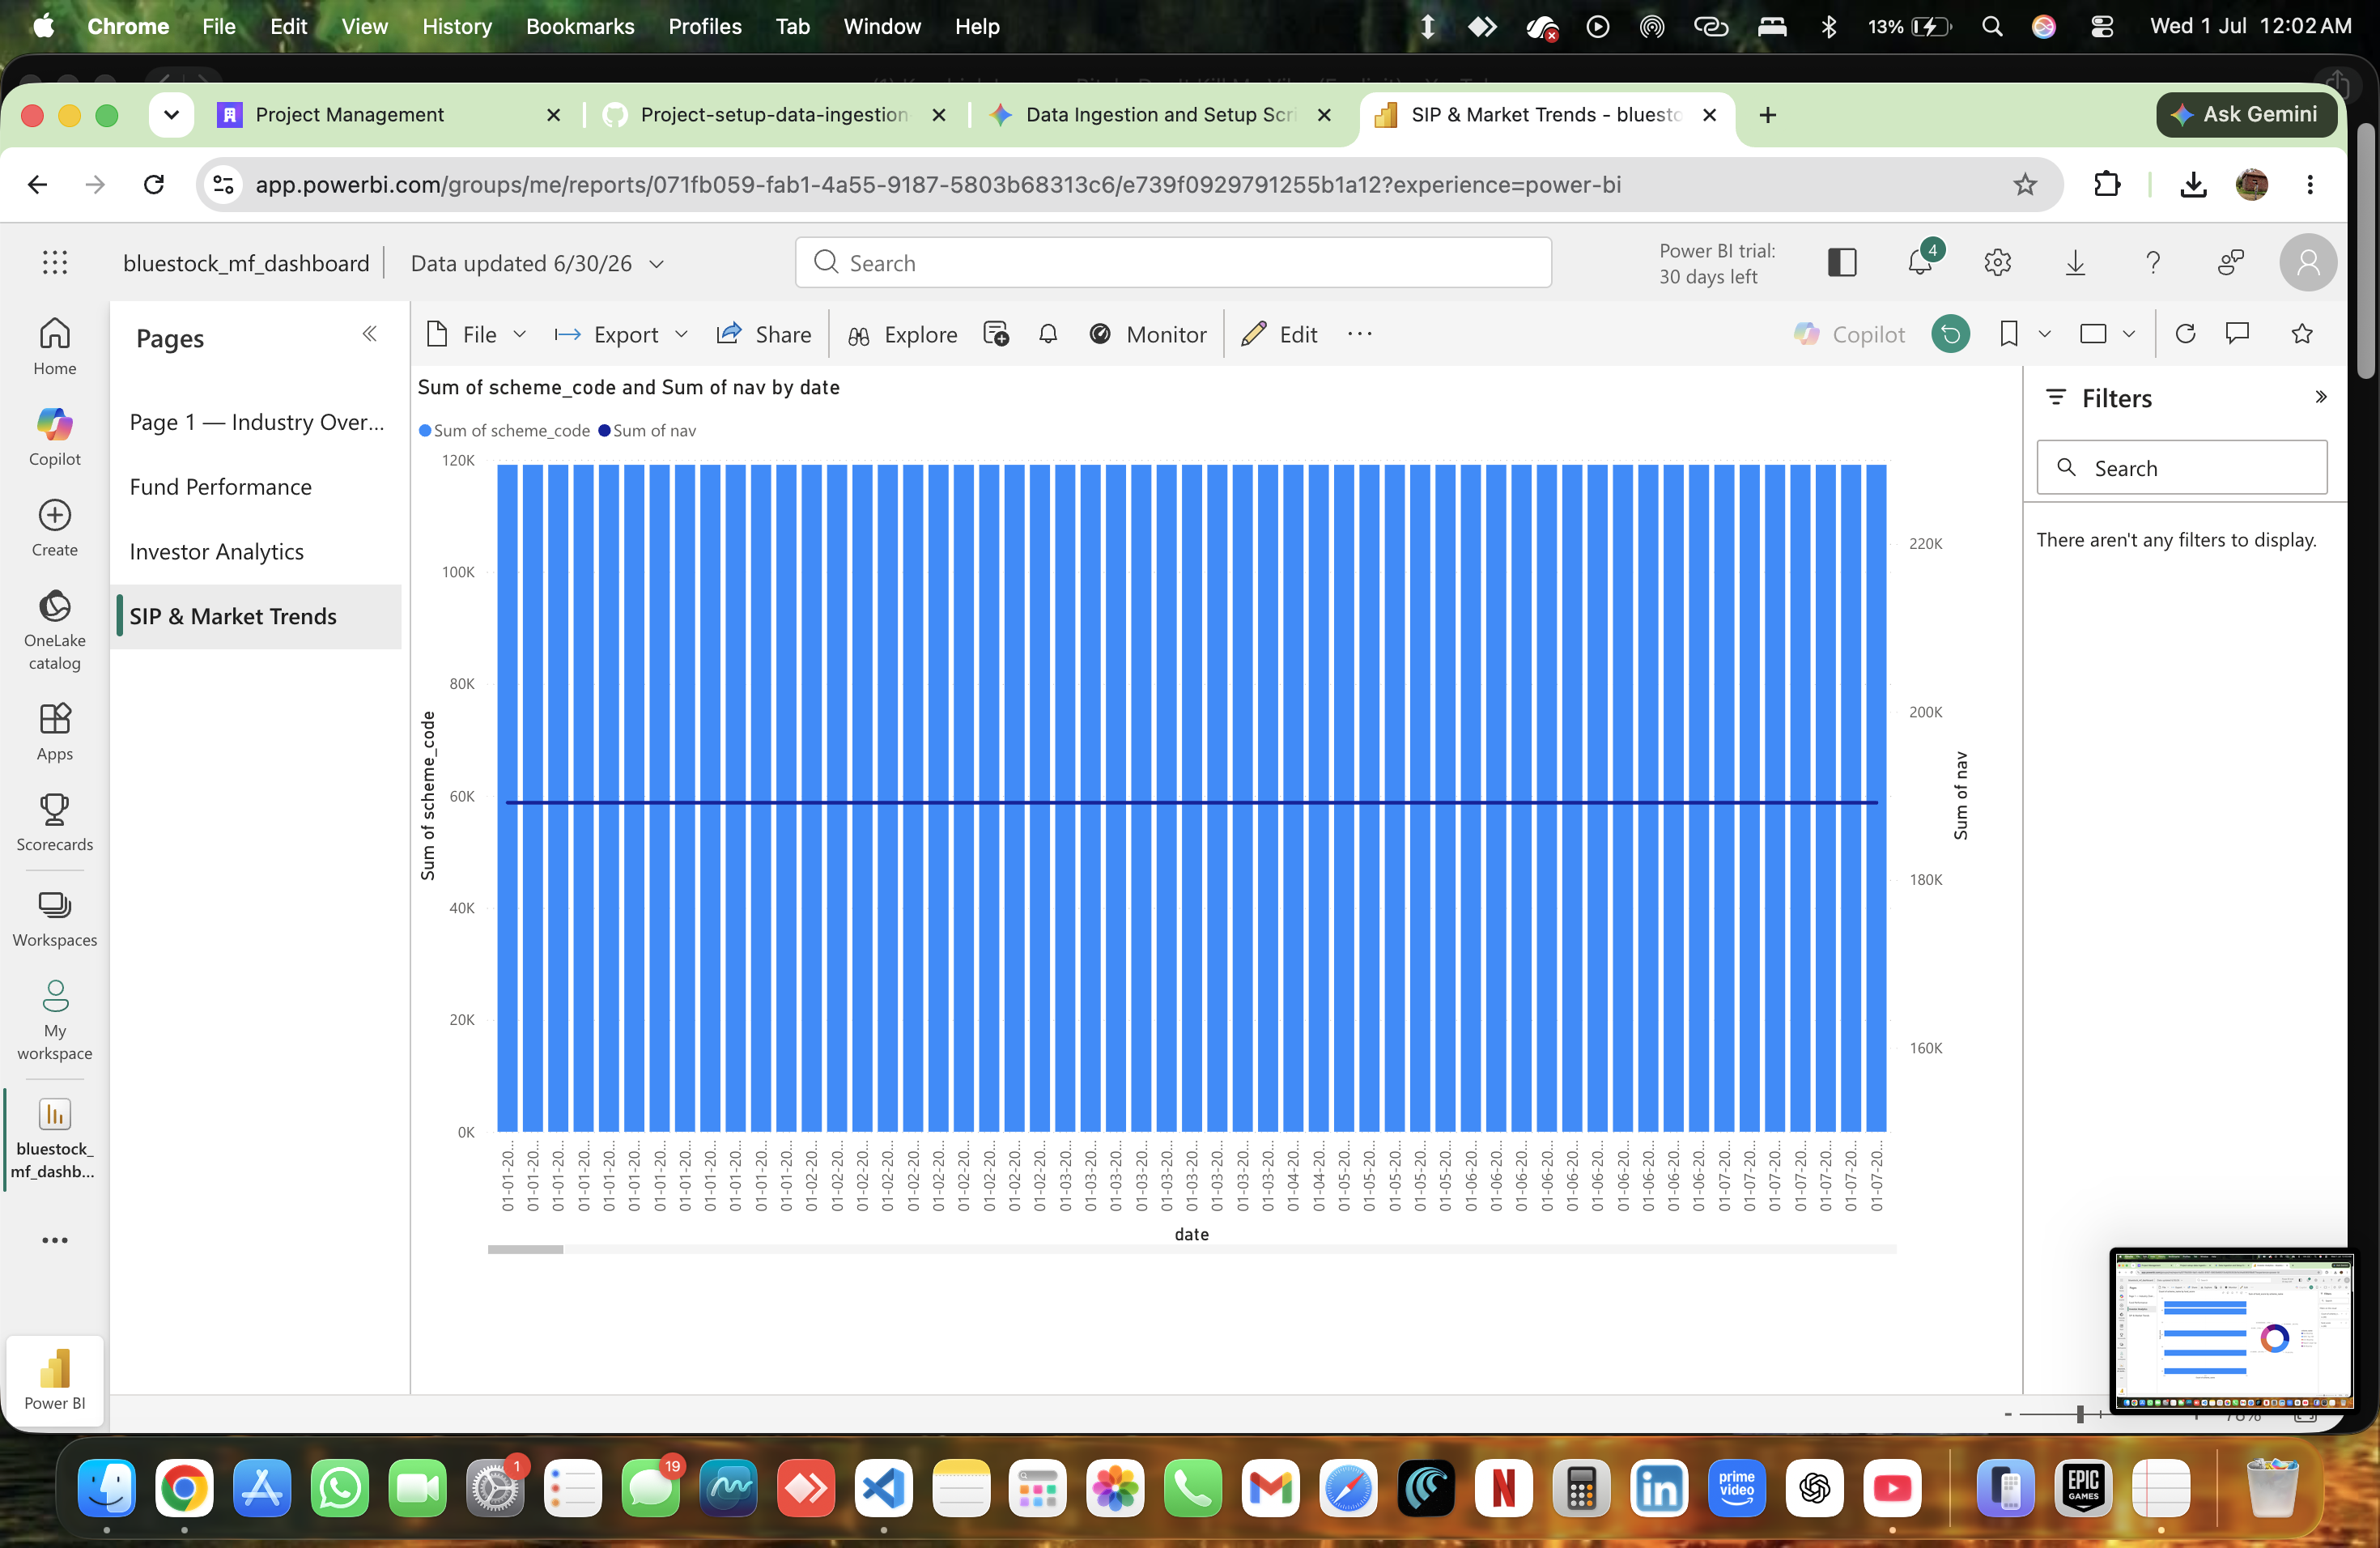

Layout of this report page (visuals, bound fields, positions):
{"tool":"powerbi","page":{"name":"SIP & Market Trends","canvas":[1280,720],"ordinal":3},"visuals":[{"type":"lineClusteredColumnComboChart","fields":{"Category":["Axis_Bluechip_raw.date"],"Y":["Sum(Axis_Bluechip_raw.scheme_code)"],"Y2":["Sum(ICICI_Bluechip_raw.nav)"]},"box":[0,9.4,1240.9,701.7],"z":0}]}

Visuals, with their boxes on the page's 1280x720 design canvas (x1, y1, x2, y2). These are canvas units, not pixel positions in the 2380x1548 screenshot, which may show the page scaled, cropped or inside an application window:
lineClusteredColumnComboChart - Axis_Bluechip_raw.date x Sum(Axis_Bluechip_raw.scheme_code): rect(0, 9, 1241, 711)
